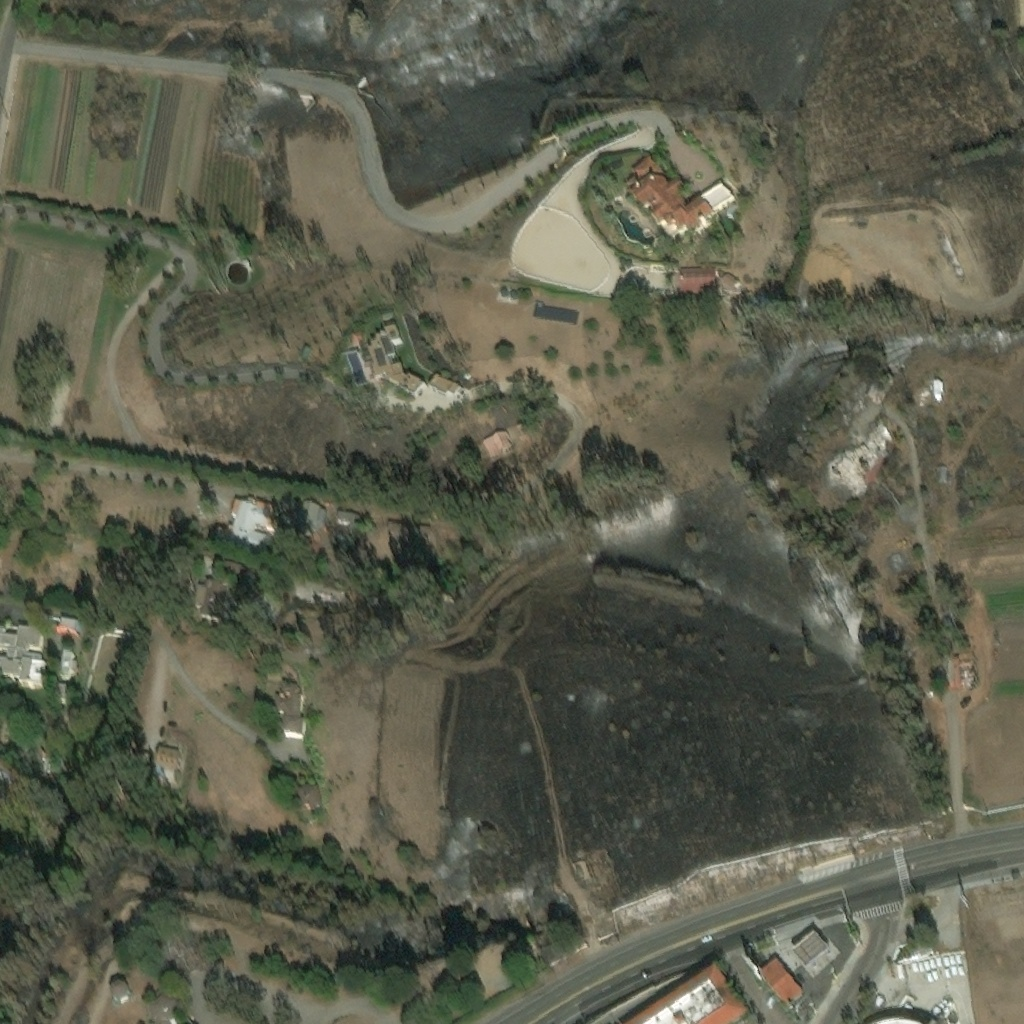0 no-damage: (623, 155, 717, 238), (628, 966, 751, 1023), (369, 322, 426, 400), (213, 492, 277, 554), (759, 958, 805, 1006), (793, 932, 831, 971), (699, 178, 734, 216), (533, 301, 579, 326), (150, 741, 181, 778), (680, 269, 717, 300), (40, 647, 78, 676), (202, 581, 229, 620), (481, 429, 515, 457), (431, 375, 464, 400), (54, 614, 79, 637), (720, 272, 738, 288)
3 destroyed: (825, 418, 888, 493), (744, 291, 785, 324), (958, 654, 976, 685)
4 un-classified: (39, 730, 72, 776)
